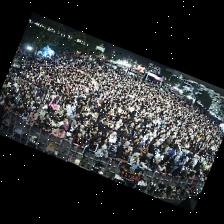person: (80, 139, 98, 161), (151, 150, 164, 170), (104, 144, 118, 161), (147, 142, 159, 159), (115, 149, 129, 163), (37, 104, 49, 120), (72, 133, 83, 150), (116, 142, 130, 155), (172, 157, 184, 172), (115, 127, 127, 141), (171, 167, 186, 178), (52, 126, 65, 138), (65, 101, 75, 116), (95, 146, 107, 158), (67, 120, 77, 134), (139, 155, 149, 169), (84, 128, 93, 143), (129, 153, 139, 166), (42, 120, 52, 133), (157, 163, 166, 177), (12, 104, 22, 116), (132, 144, 142, 156), (109, 132, 117, 146), (123, 128, 132, 140), (51, 118, 59, 131), (94, 130, 102, 143), (50, 110, 60, 120), (26, 116, 35, 127), (99, 137, 108, 148), (30, 108, 38, 120), (68, 111, 75, 124), (22, 110, 29, 123), (186, 170, 195, 180), (49, 98, 57, 109), (115, 120, 123, 130), (79, 125, 85, 137), (4, 101, 12, 110), (64, 132, 72, 141), (57, 106, 64, 116), (120, 137, 128, 145), (60, 117, 68, 125), (8, 105, 15, 114), (44, 114, 52, 121), (103, 129, 110, 137), (19, 99, 24, 109), (0, 96, 4, 107)
